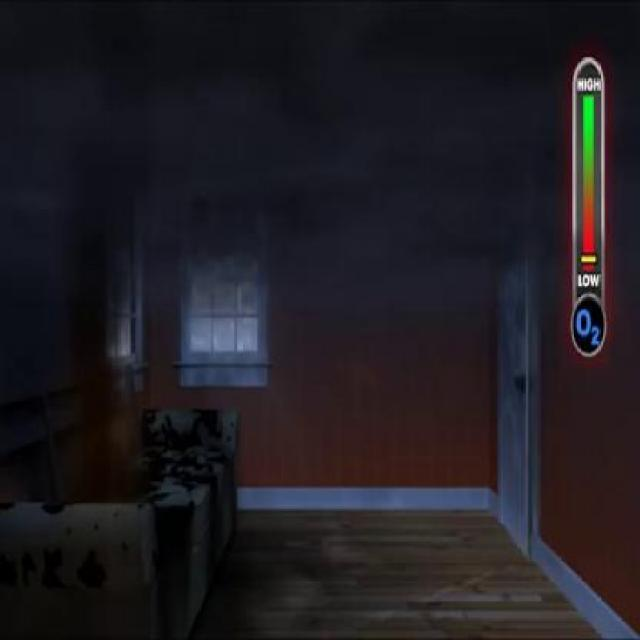smoke: (198, 57, 544, 374), (37, 112, 160, 503)
